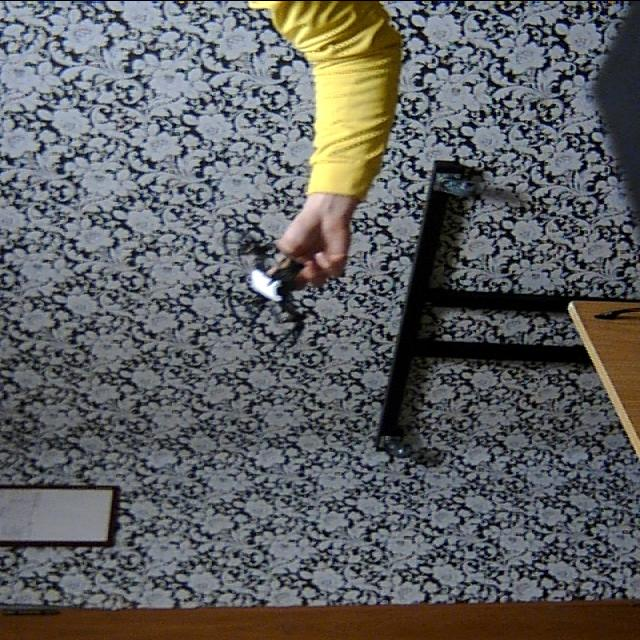drone: (207, 210, 331, 359)
